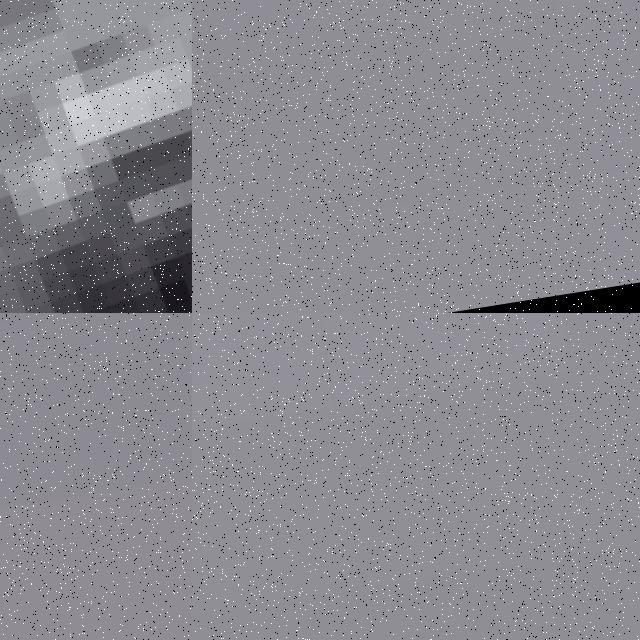drone: (0, 0, 192, 313)
